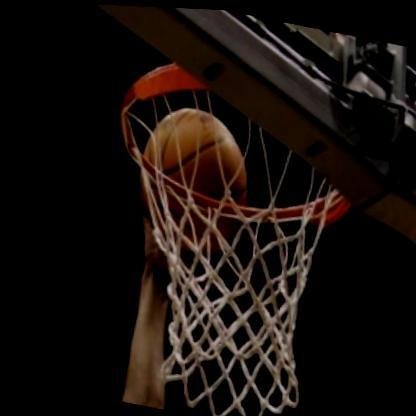basketball: (117, 90, 269, 273)
rim: (56, 44, 371, 413)
